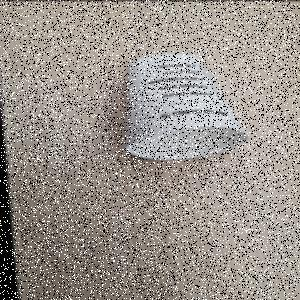Cup: (123, 53, 253, 161)
